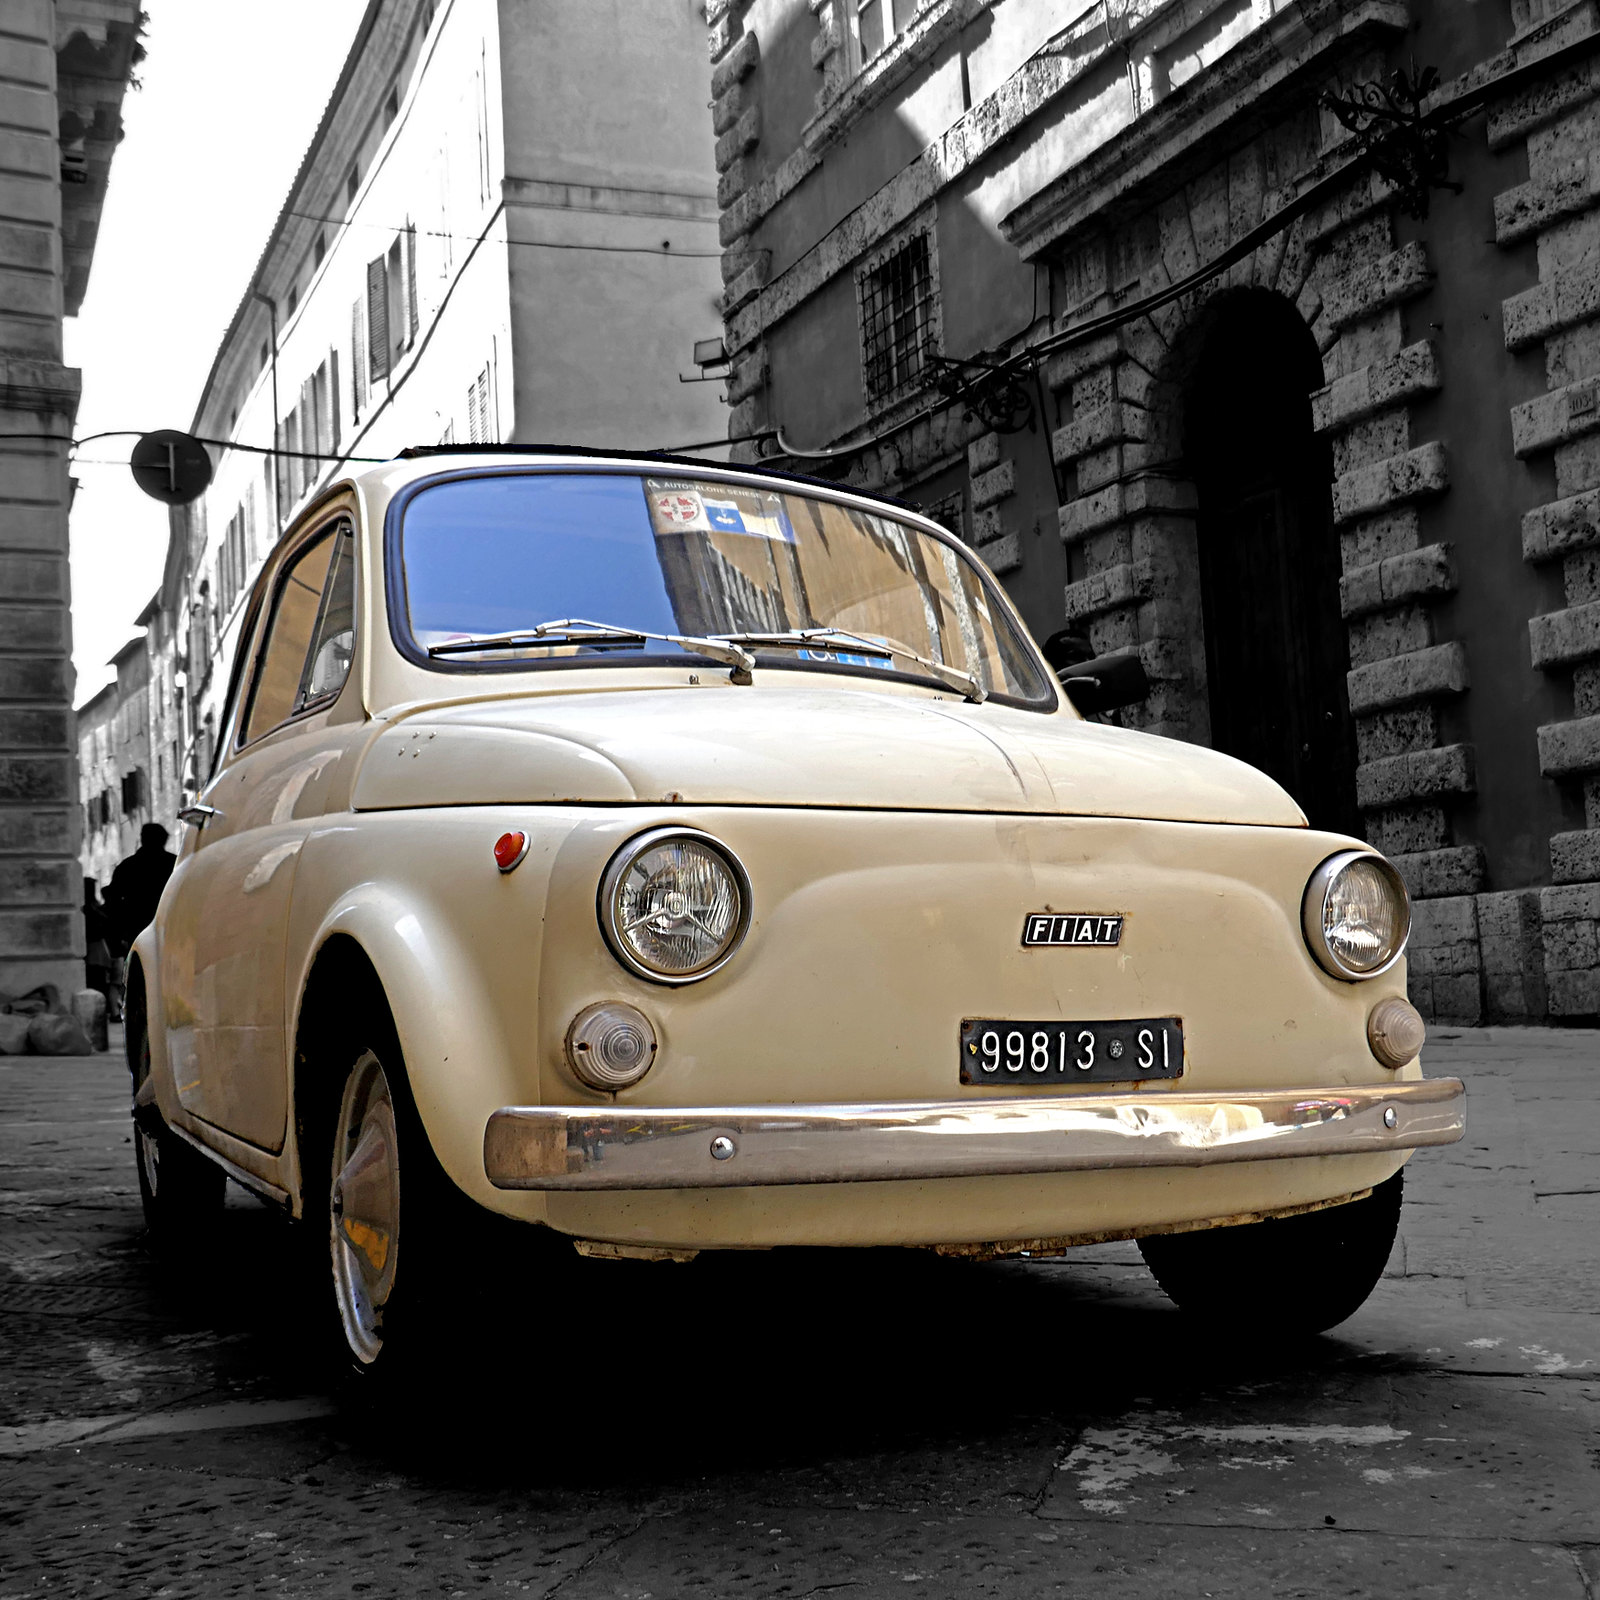car: (98, 437, 1483, 1437)
